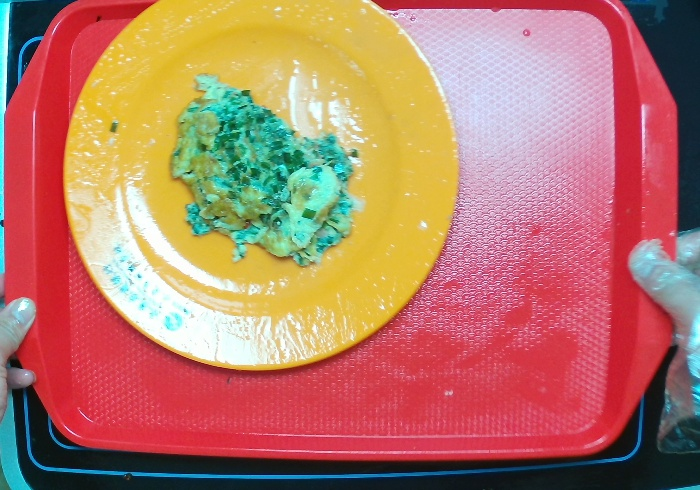YKMZ-Ju_Se_Mian_Pan: (59, 1, 483, 405)
